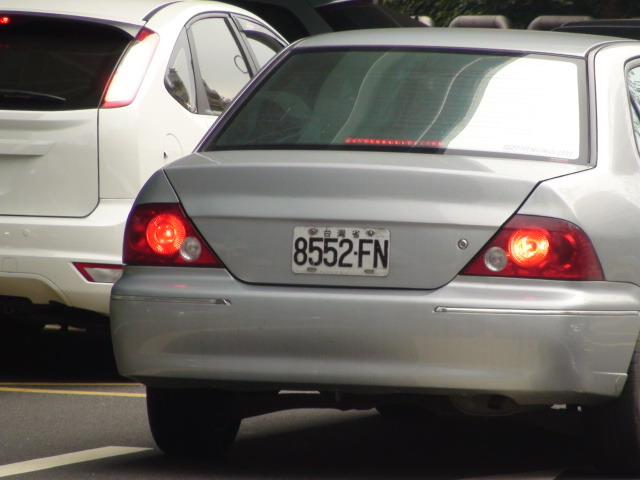plate: (290, 220, 393, 275)
